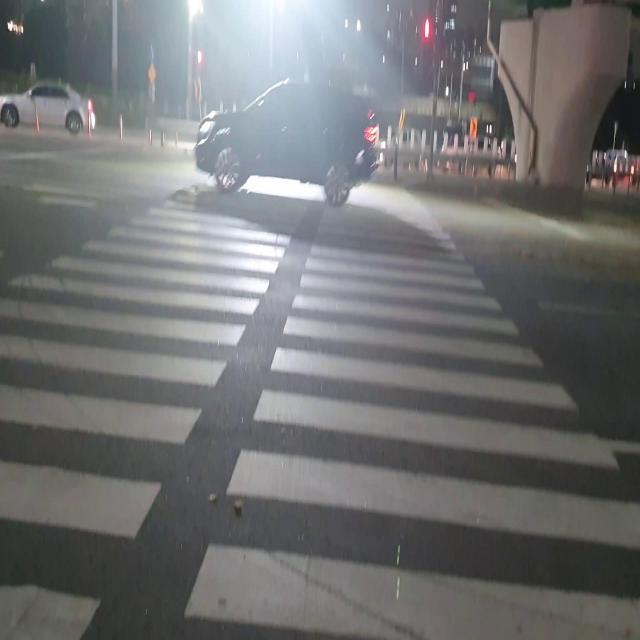crosswalk: (1, 162, 640, 640)
